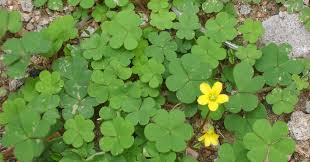clover: (3, 109, 50, 162), (165, 53, 212, 103), (242, 118, 295, 162), (253, 43, 304, 86), (144, 108, 193, 152), (102, 12, 142, 50), (98, 117, 135, 156), (62, 114, 95, 148), (205, 12, 237, 43), (265, 86, 298, 115)
yellow wood sorrel: (196, 81, 229, 111), (195, 124, 221, 147)
